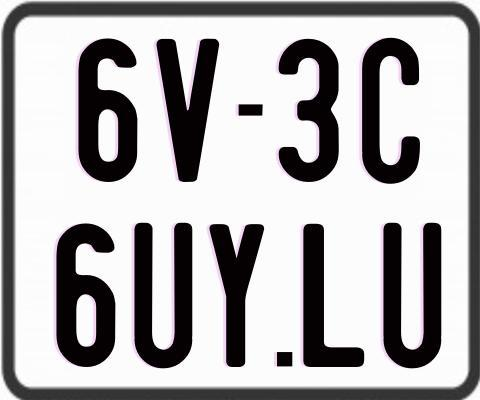3: (277, 39, 341, 188)
6: (75, 35, 138, 181), (56, 223, 116, 373)
C: (360, 35, 421, 183)
L: (303, 223, 365, 370)
U: (134, 221, 195, 371), (380, 220, 443, 365)
V: (155, 38, 222, 182)
Y: (207, 222, 264, 370)
